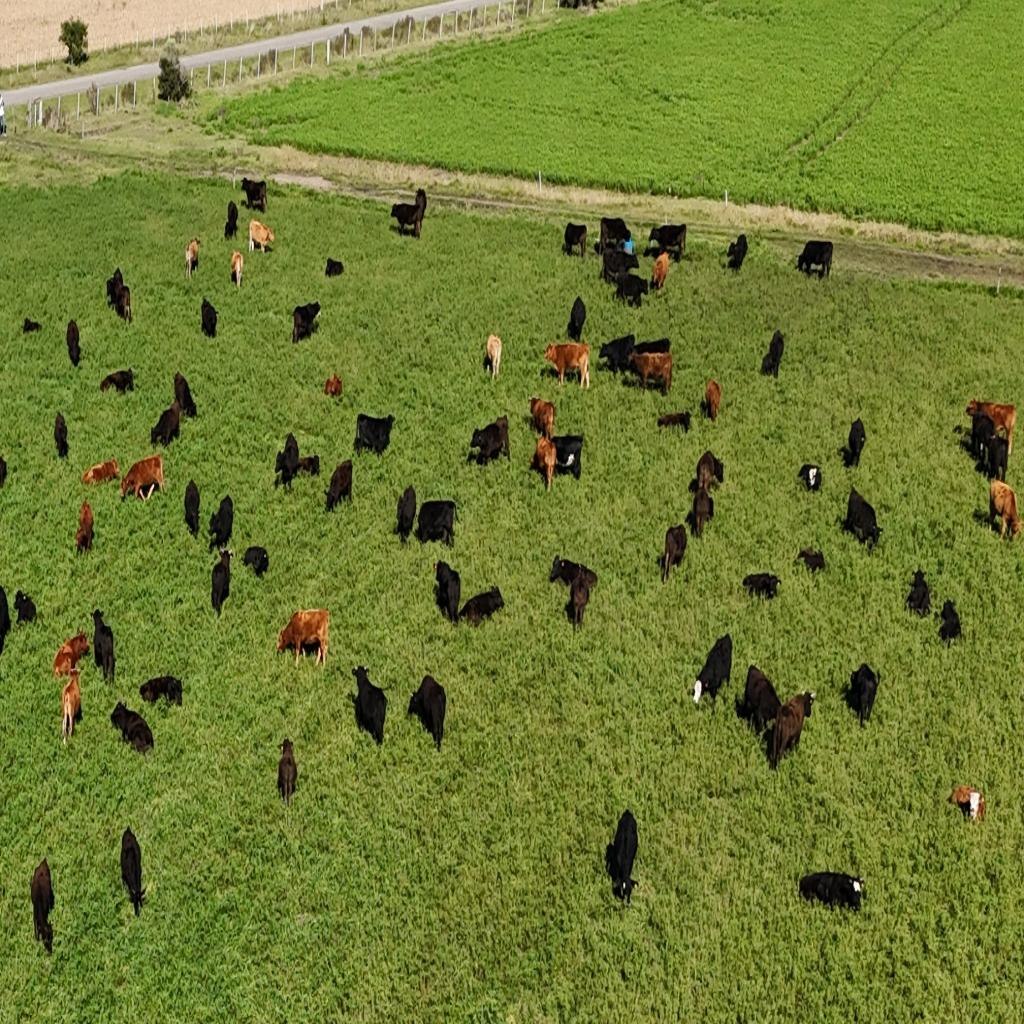cow: (768, 691, 818, 772), (272, 610, 336, 672), (604, 808, 638, 908), (691, 633, 732, 708), (407, 674, 446, 752), (799, 870, 866, 914), (352, 665, 387, 747), (740, 664, 780, 735), (120, 827, 149, 918), (30, 858, 56, 954), (843, 487, 882, 549), (110, 700, 154, 754), (120, 454, 165, 504), (415, 498, 458, 550), (542, 341, 588, 389), (847, 661, 880, 727), (989, 479, 1023, 541), (457, 586, 505, 627), (629, 352, 673, 396), (549, 553, 597, 593), (354, 412, 396, 457), (53, 629, 90, 679), (468, 419, 508, 465), (92, 608, 116, 684), (434, 560, 462, 624), (60, 667, 82, 748), (546, 433, 583, 480), (150, 398, 181, 450), (647, 222, 687, 262), (568, 568, 593, 632), (597, 334, 635, 376), (324, 459, 353, 514), (661, 524, 687, 584), (208, 492, 234, 552), (600, 249, 640, 288), (139, 674, 184, 708), (948, 784, 986, 824), (796, 240, 833, 281), (277, 738, 298, 810), (274, 430, 299, 490), (210, 548, 232, 616), (532, 434, 558, 490), (597, 215, 631, 257), (971, 410, 996, 465), (986, 430, 1010, 484), (760, 331, 785, 382), (906, 569, 932, 618), (396, 483, 416, 545), (692, 484, 714, 540), (694, 450, 724, 490), (613, 273, 647, 308), (292, 302, 320, 344), (173, 371, 197, 420), (938, 598, 962, 647), (528, 397, 554, 442), (75, 498, 94, 556), (742, 572, 781, 600), (82, 458, 120, 486), (390, 202, 419, 238), (240, 177, 268, 213), (846, 418, 866, 468), (563, 222, 589, 260), (184, 478, 200, 538), (248, 219, 275, 254), (100, 369, 135, 395), (242, 546, 268, 580), (410, 186, 427, 238), (567, 295, 586, 341), (795, 547, 826, 575), (630, 336, 670, 357), (726, 233, 748, 271), (704, 377, 722, 423), (650, 251, 670, 292), (657, 410, 691, 434), (13, 591, 37, 625), (485, 333, 502, 380), (0, 586, 11, 657), (296, 450, 320, 482), (106, 268, 124, 308), (200, 298, 218, 338), (66, 319, 81, 367), (54, 412, 69, 460), (798, 463, 822, 493), (185, 237, 201, 279), (224, 200, 238, 241), (115, 286, 130, 324), (231, 249, 244, 291), (323, 373, 343, 398), (324, 258, 344, 278), (23, 318, 42, 334), (0, 454, 8, 488), (100, 375, 113, 393)
